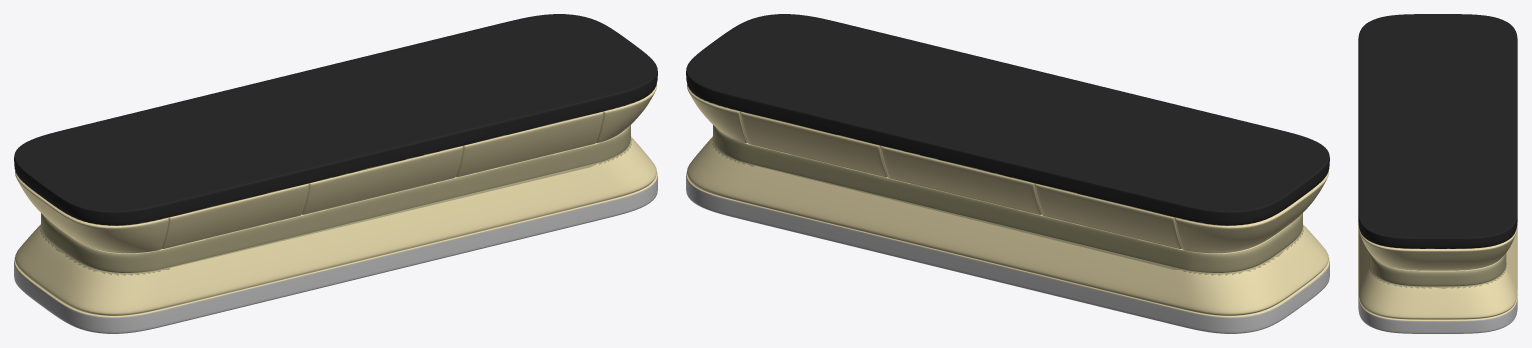
Rendered from SM_SM_TVstand_02.fbx.
3 renders of one model, left to right at view 1: azimuth 30°, elevation 25°; view 2: azimuth 150°, elevation 25°; view 3: azimuth 270°, elevation 25°, orthographic. The views are drawn at different scales.
Visible parts, largest first — view 1: SM_TVstand_02; view 2: SM_TVstand_02; view 3: SM_TVstand_02.
Boxes of the visible parts, x1,y1,x2,y2 form: SM_TVstand_02: (14, 14, 657, 333); SM_TVstand_02: (686, 14, 1329, 333); SM_TVstand_02: (1358, 14, 1517, 333).
Size of the model in its own units: 200 by 40 by 59.99.
